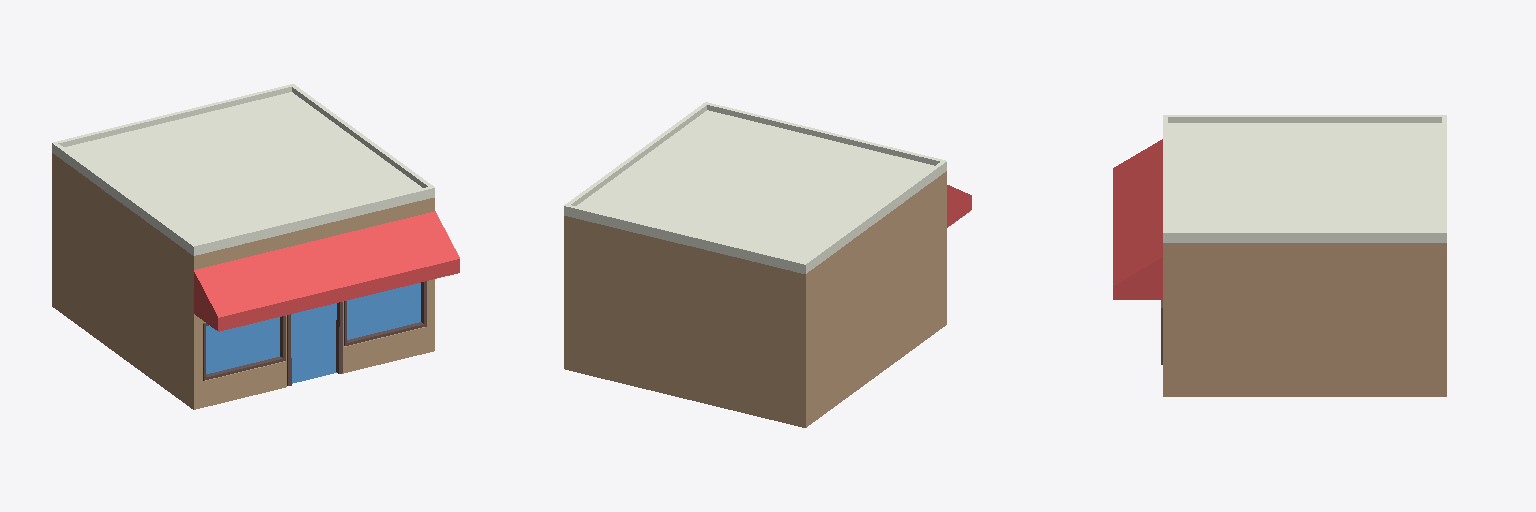
Rendered from m_cafe.obj.
3 renders of one model, left to right at view 1: azimuth 30°, elevation 25°; view 2: azimuth 150°, elevation 25°; view 3: azimuth 270°, elevation 25°, orthographic.
Visible parts, largest first — view 1: Cube.039_Cube.065; view 2: Cube.039_Cube.065; view 3: Cube.039_Cube.065.
Part boxes in pixels (left/top/right/bottom): Cube.039_Cube.065: left=52, top=84, right=459, bottom=409; Cube.039_Cube.065: left=564, top=102, right=971, bottom=427; Cube.039_Cube.065: left=1113, top=115, right=1446, bottom=396.
Size of the model in its own units: 5.76 by 3.72 by 6.89.